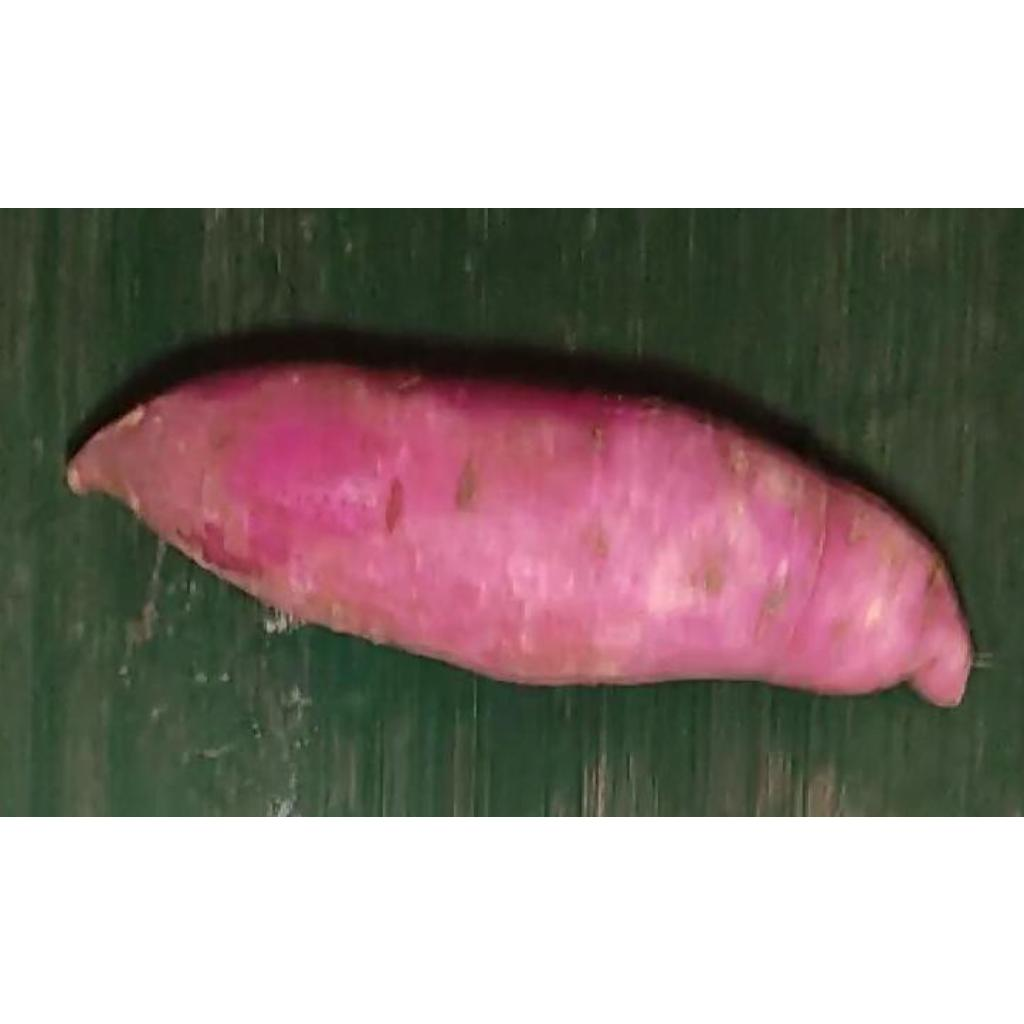Sweet Potato: (65, 359, 974, 709)
